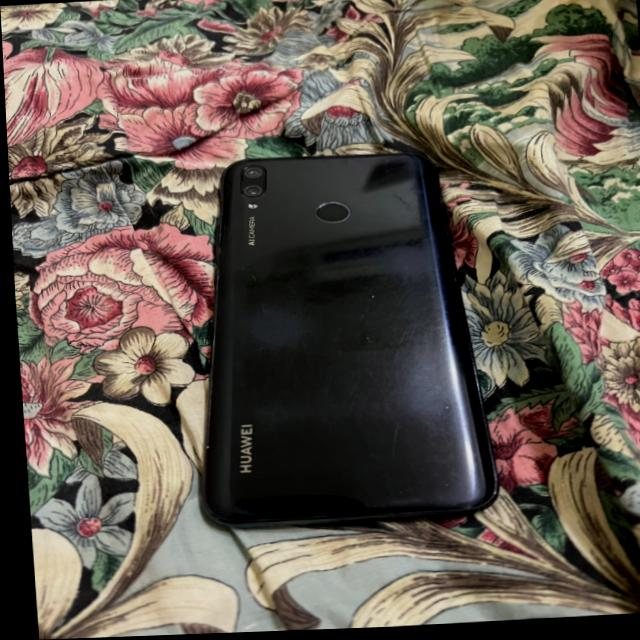Smartphone: (196, 157, 492, 529)
